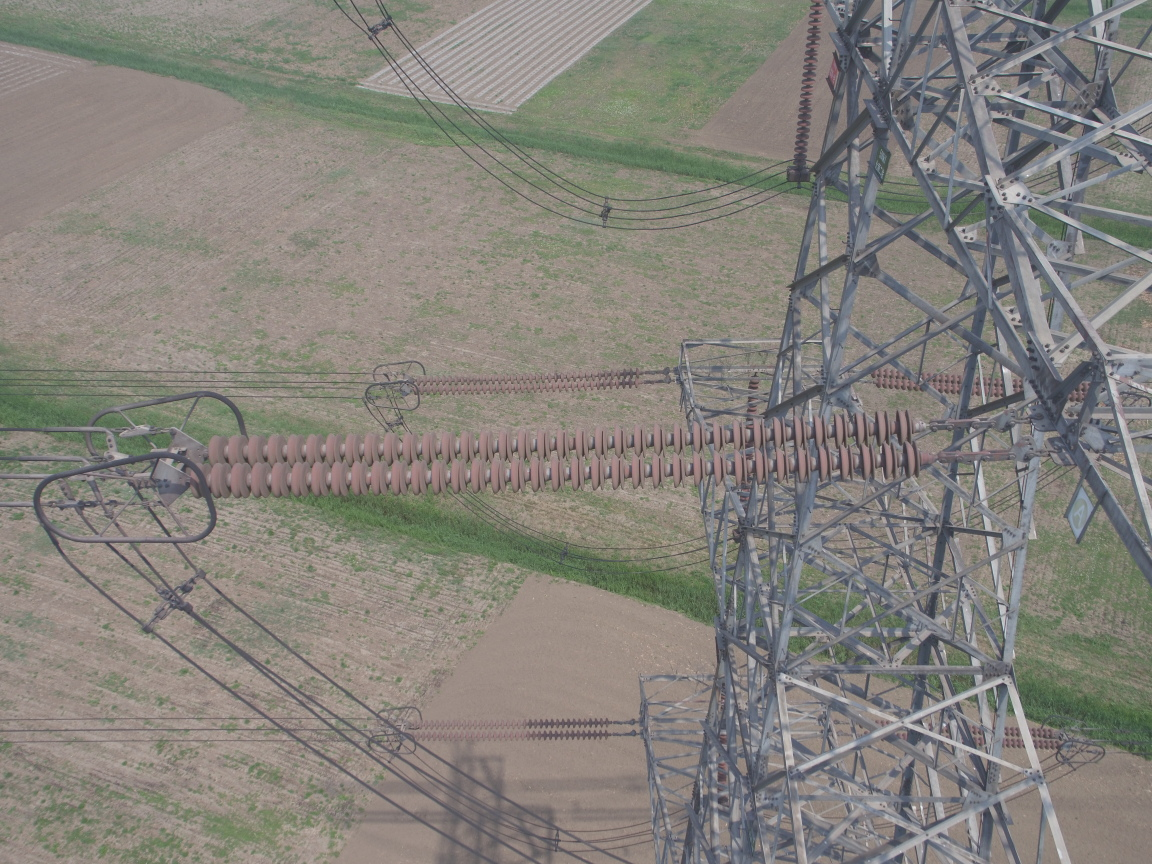insulator: (174, 400, 982, 502), (397, 356, 650, 397), (396, 713, 626, 743)
